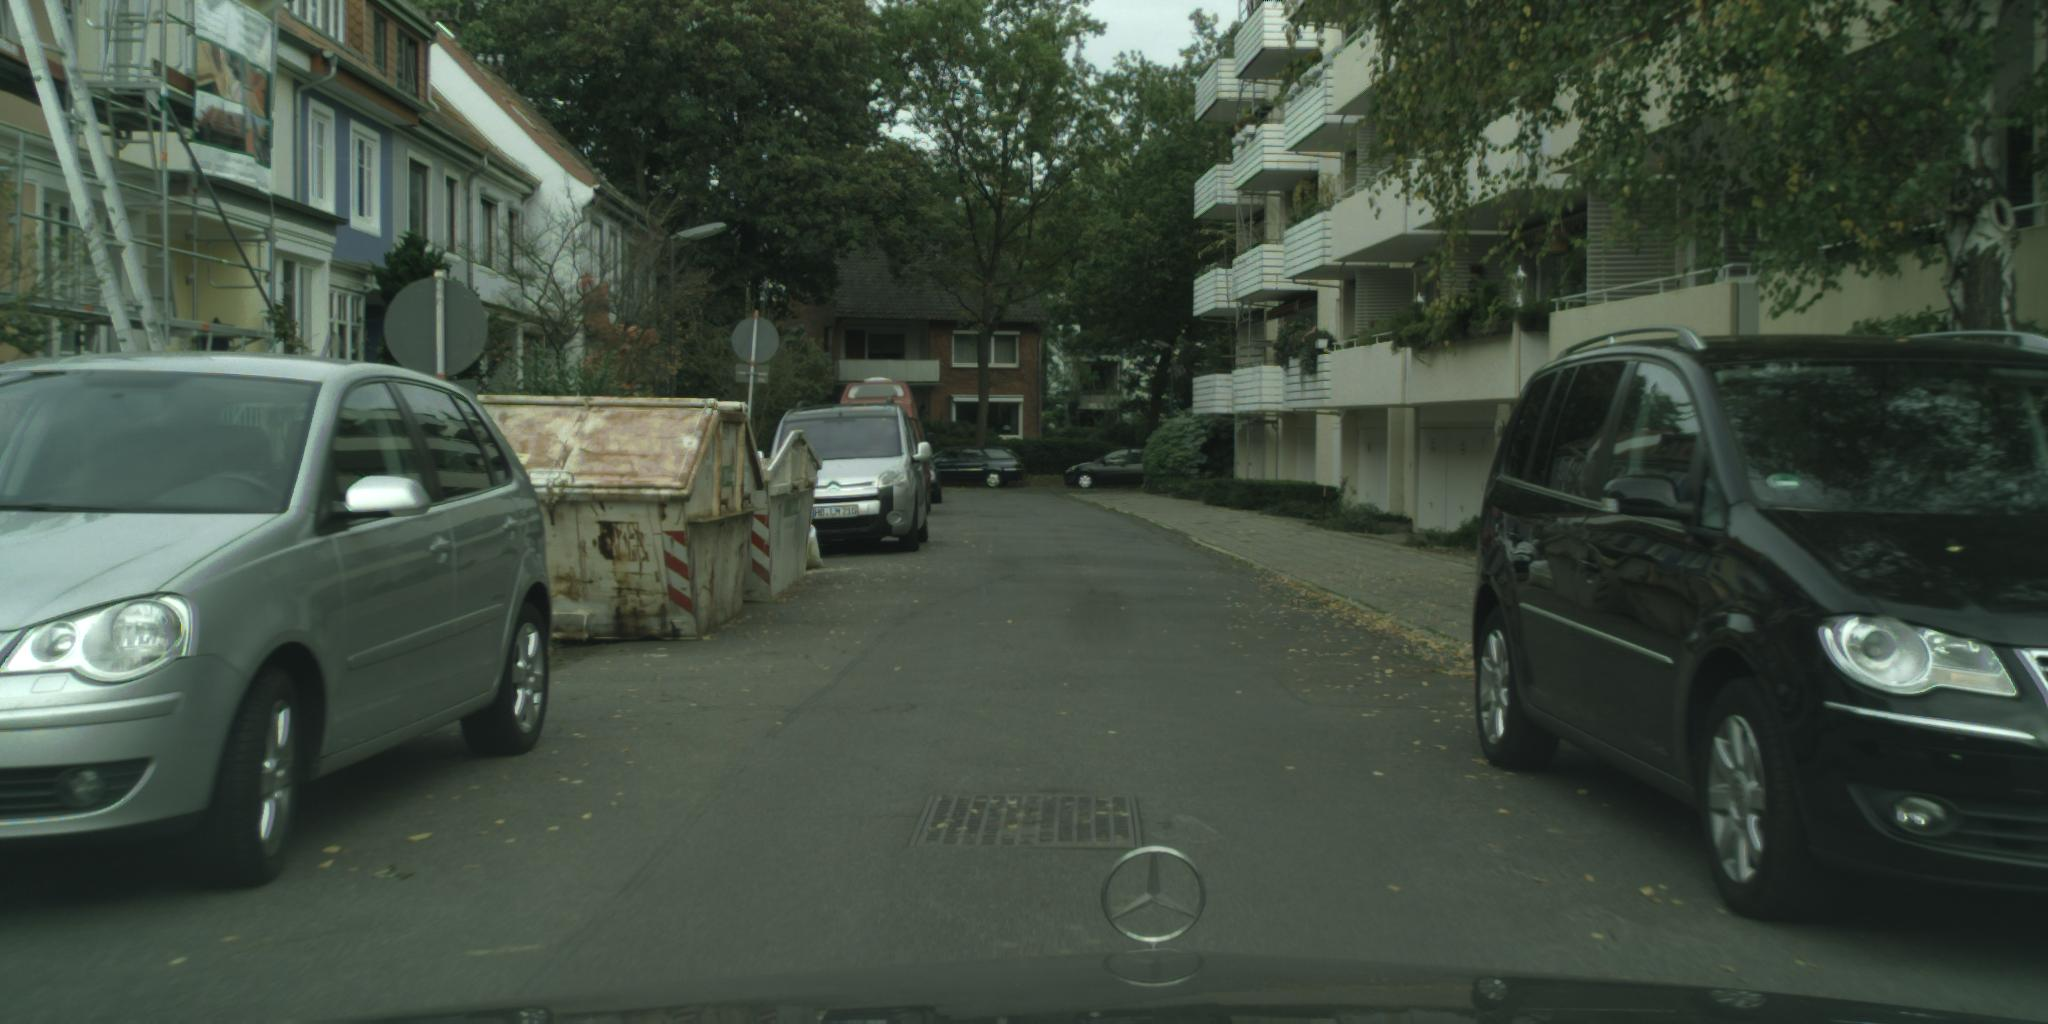car: (1475, 324, 2048, 926), (1, 353, 552, 896), (747, 398, 933, 555), (917, 448, 1028, 490), (1063, 449, 1165, 492), (918, 455, 943, 505)
